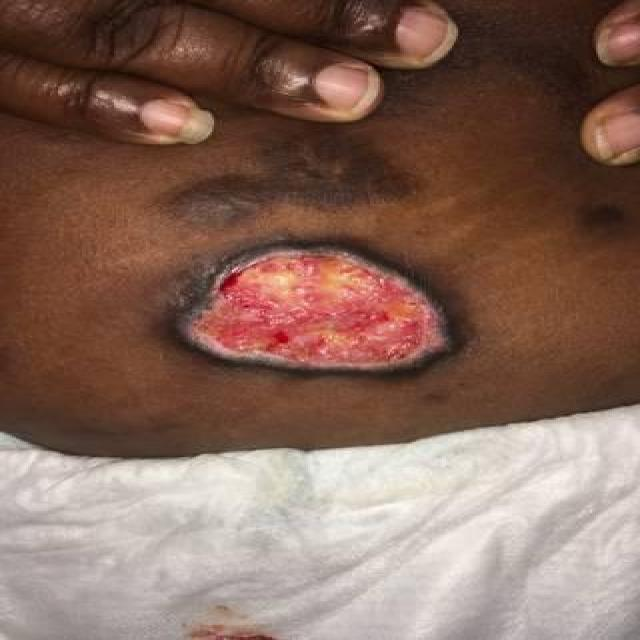DTI: (175, 131, 414, 224)
stage-3: (180, 244, 449, 371)
